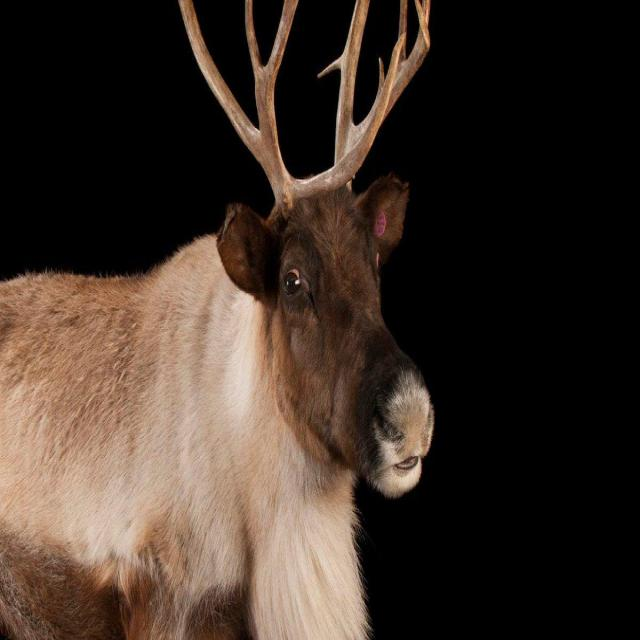Deer: (8, 17, 441, 640)
